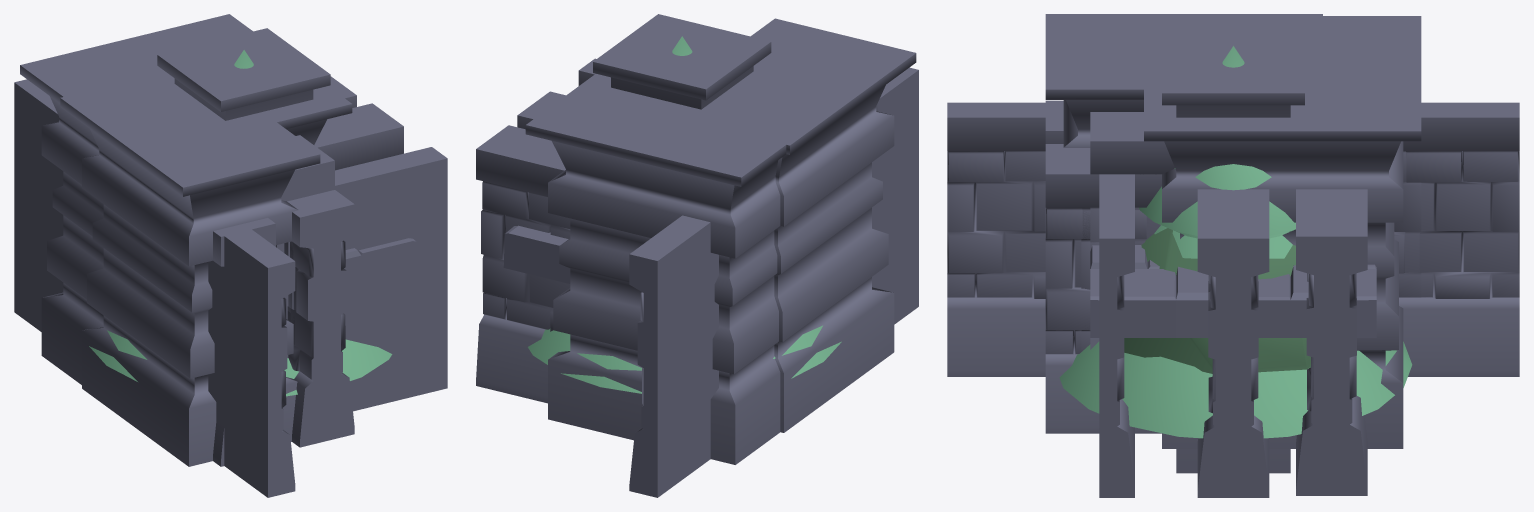
Rendered from playable_assets_pivot.fbx.
The picture shows the model from 3 angles, left to right: view 1: azimuth 30°, elevation 25°; view 2: azimuth 150°, elevation 25°; view 3: azimuth 270°, elevation 25°; orthographic projection. The views are drawn at different scales.
Parts seen in each view (by area): view 1: Outer_corner_piece, Outer_wall_T_intersection, Inner_wall_corner, Long_wall_end, pillar_2, Pillar, Floor_tile, tree_large, Inner_wall_segement, Inner_wall_T_intersection, Short_wall_end, Inner_wall_cross_intersection; view 2: Inner_wall_corner, Outer_wall_T_intersection, Long_wall_end, Outer_corner_piece, pillar_2, Pillar, tree_large, Short_wall_end, Floor_tile; view 3: Outer_wall_T_intersection, Long_wall_end, Outer_corner_piece, Inner_wall_corner, tree_large, Pillar, pillar_2, Floor_tile, Short_wall_end, Bush_large, Inner_wall_segement, Inner_wall_cross_intersection (+1 smaller).
Part boxes in pixels (bbox=[...]): Outer_corner_piece: bbox=[58, 105, 447, 466]; Outer_wall_T_intersection: bbox=[14, 75, 403, 497]; Inner_wall_corner: bbox=[20, 33, 356, 466]; Long_wall_end: bbox=[92, 14, 354, 447]; pillar_2: bbox=[157, 28, 330, 120]; Pillar: bbox=[136, 72, 352, 144]; Floor_tile: bbox=[284, 238, 417, 306]; tree_large: bbox=[89, 50, 392, 396]; Inner_wall_segement: bbox=[281, 135, 334, 357]; Inner_wall_T_intersection: bbox=[314, 103, 403, 169]; Short_wall_end: bbox=[109, 26, 333, 344]; Inner_wall_cross_intersection: bbox=[287, 115, 369, 321]; Inner_wall_corner: bbox=[476, 98, 877, 464]; Outer_wall_T_intersection: bbox=[517, 67, 918, 497]; Long_wall_end: bbox=[525, 74, 744, 440]; Outer_corner_piece: bbox=[578, 18, 916, 464]; pillar_2: bbox=[593, 14, 771, 109]; Pillar: bbox=[571, 59, 793, 126]; tree_large: bbox=[528, 36, 841, 393]; Short_wall_end: bbox=[558, 74, 763, 170]; Floor_tile: bbox=[503, 225, 570, 283]; Outer_wall_T_intersection: bbox=[947, 14, 1519, 497]; Long_wall_end: bbox=[1045, 55, 1421, 448]; Outer_corner_piece: bbox=[1045, 14, 1421, 497]; Inner_wall_corner: bbox=[1045, 16, 1421, 495]; tree_large: bbox=[1059, 46, 1412, 438]; Pillar: bbox=[1144, 55, 1322, 448]; pillar_2: bbox=[1162, 32, 1304, 473]; Floor_tile: bbox=[1090, 245, 1376, 337]; Short_wall_end: bbox=[1081, 56, 1385, 448]; Bush_large: bbox=[1124, 228, 1310, 373]; Inner_wall_segement: bbox=[1090, 112, 1174, 349]; Inner_wall_cross_intersection: bbox=[1090, 174, 1269, 471].
Bounding box in the file's own units: 336 × 415 × 512.
